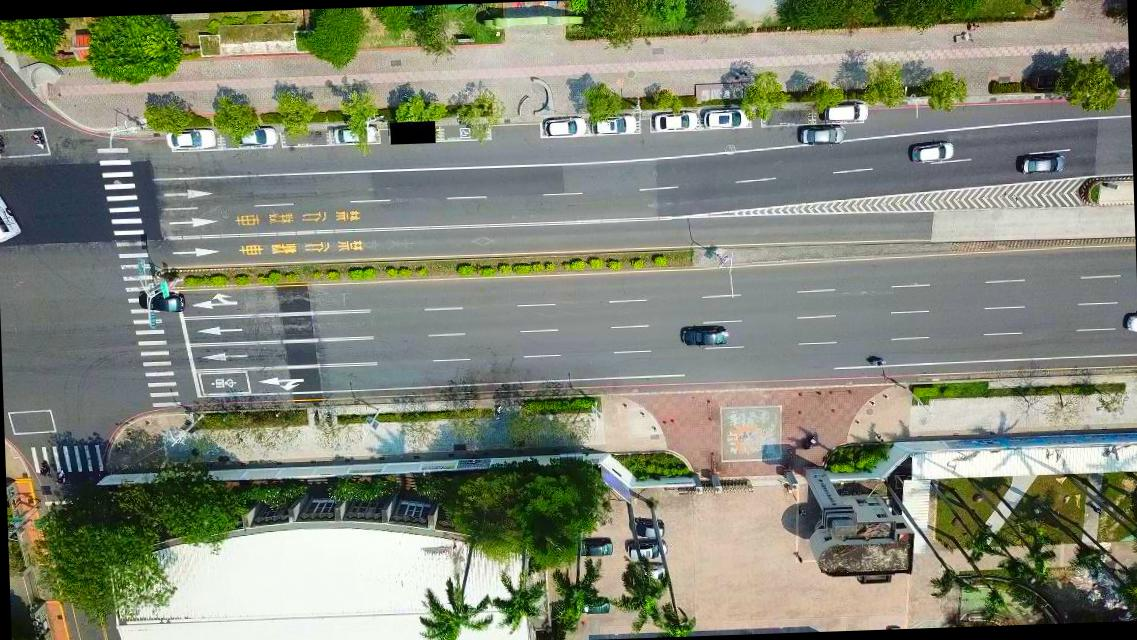vehicle: (333, 122, 382, 146), (138, 290, 184, 315), (164, 127, 213, 150), (234, 127, 279, 150), (623, 539, 668, 562), (910, 140, 953, 164), (678, 326, 727, 346), (650, 110, 694, 132), (796, 126, 844, 146), (546, 116, 587, 138), (594, 115, 638, 134), (702, 109, 746, 128), (1018, 153, 1062, 172), (627, 517, 665, 538), (576, 537, 612, 559), (826, 102, 864, 122), (628, 565, 666, 584), (576, 597, 610, 617), (1122, 312, 1136, 335)
